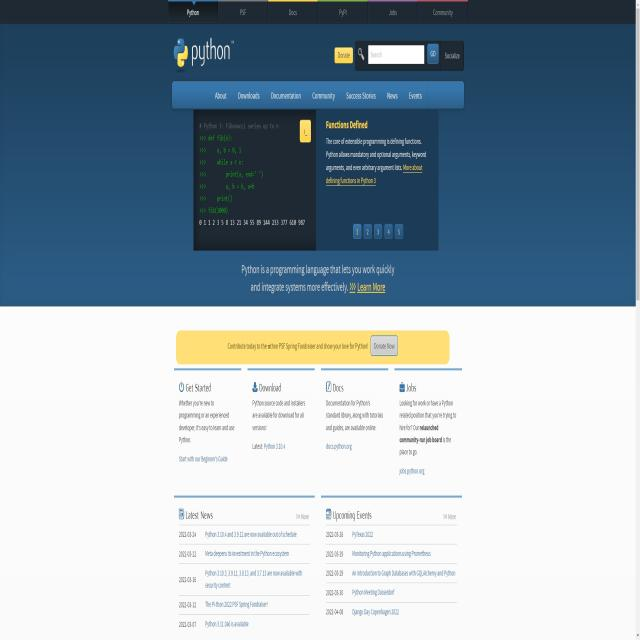search: (364, 45, 439, 66)
tab-bar: (184, 79, 440, 110)
